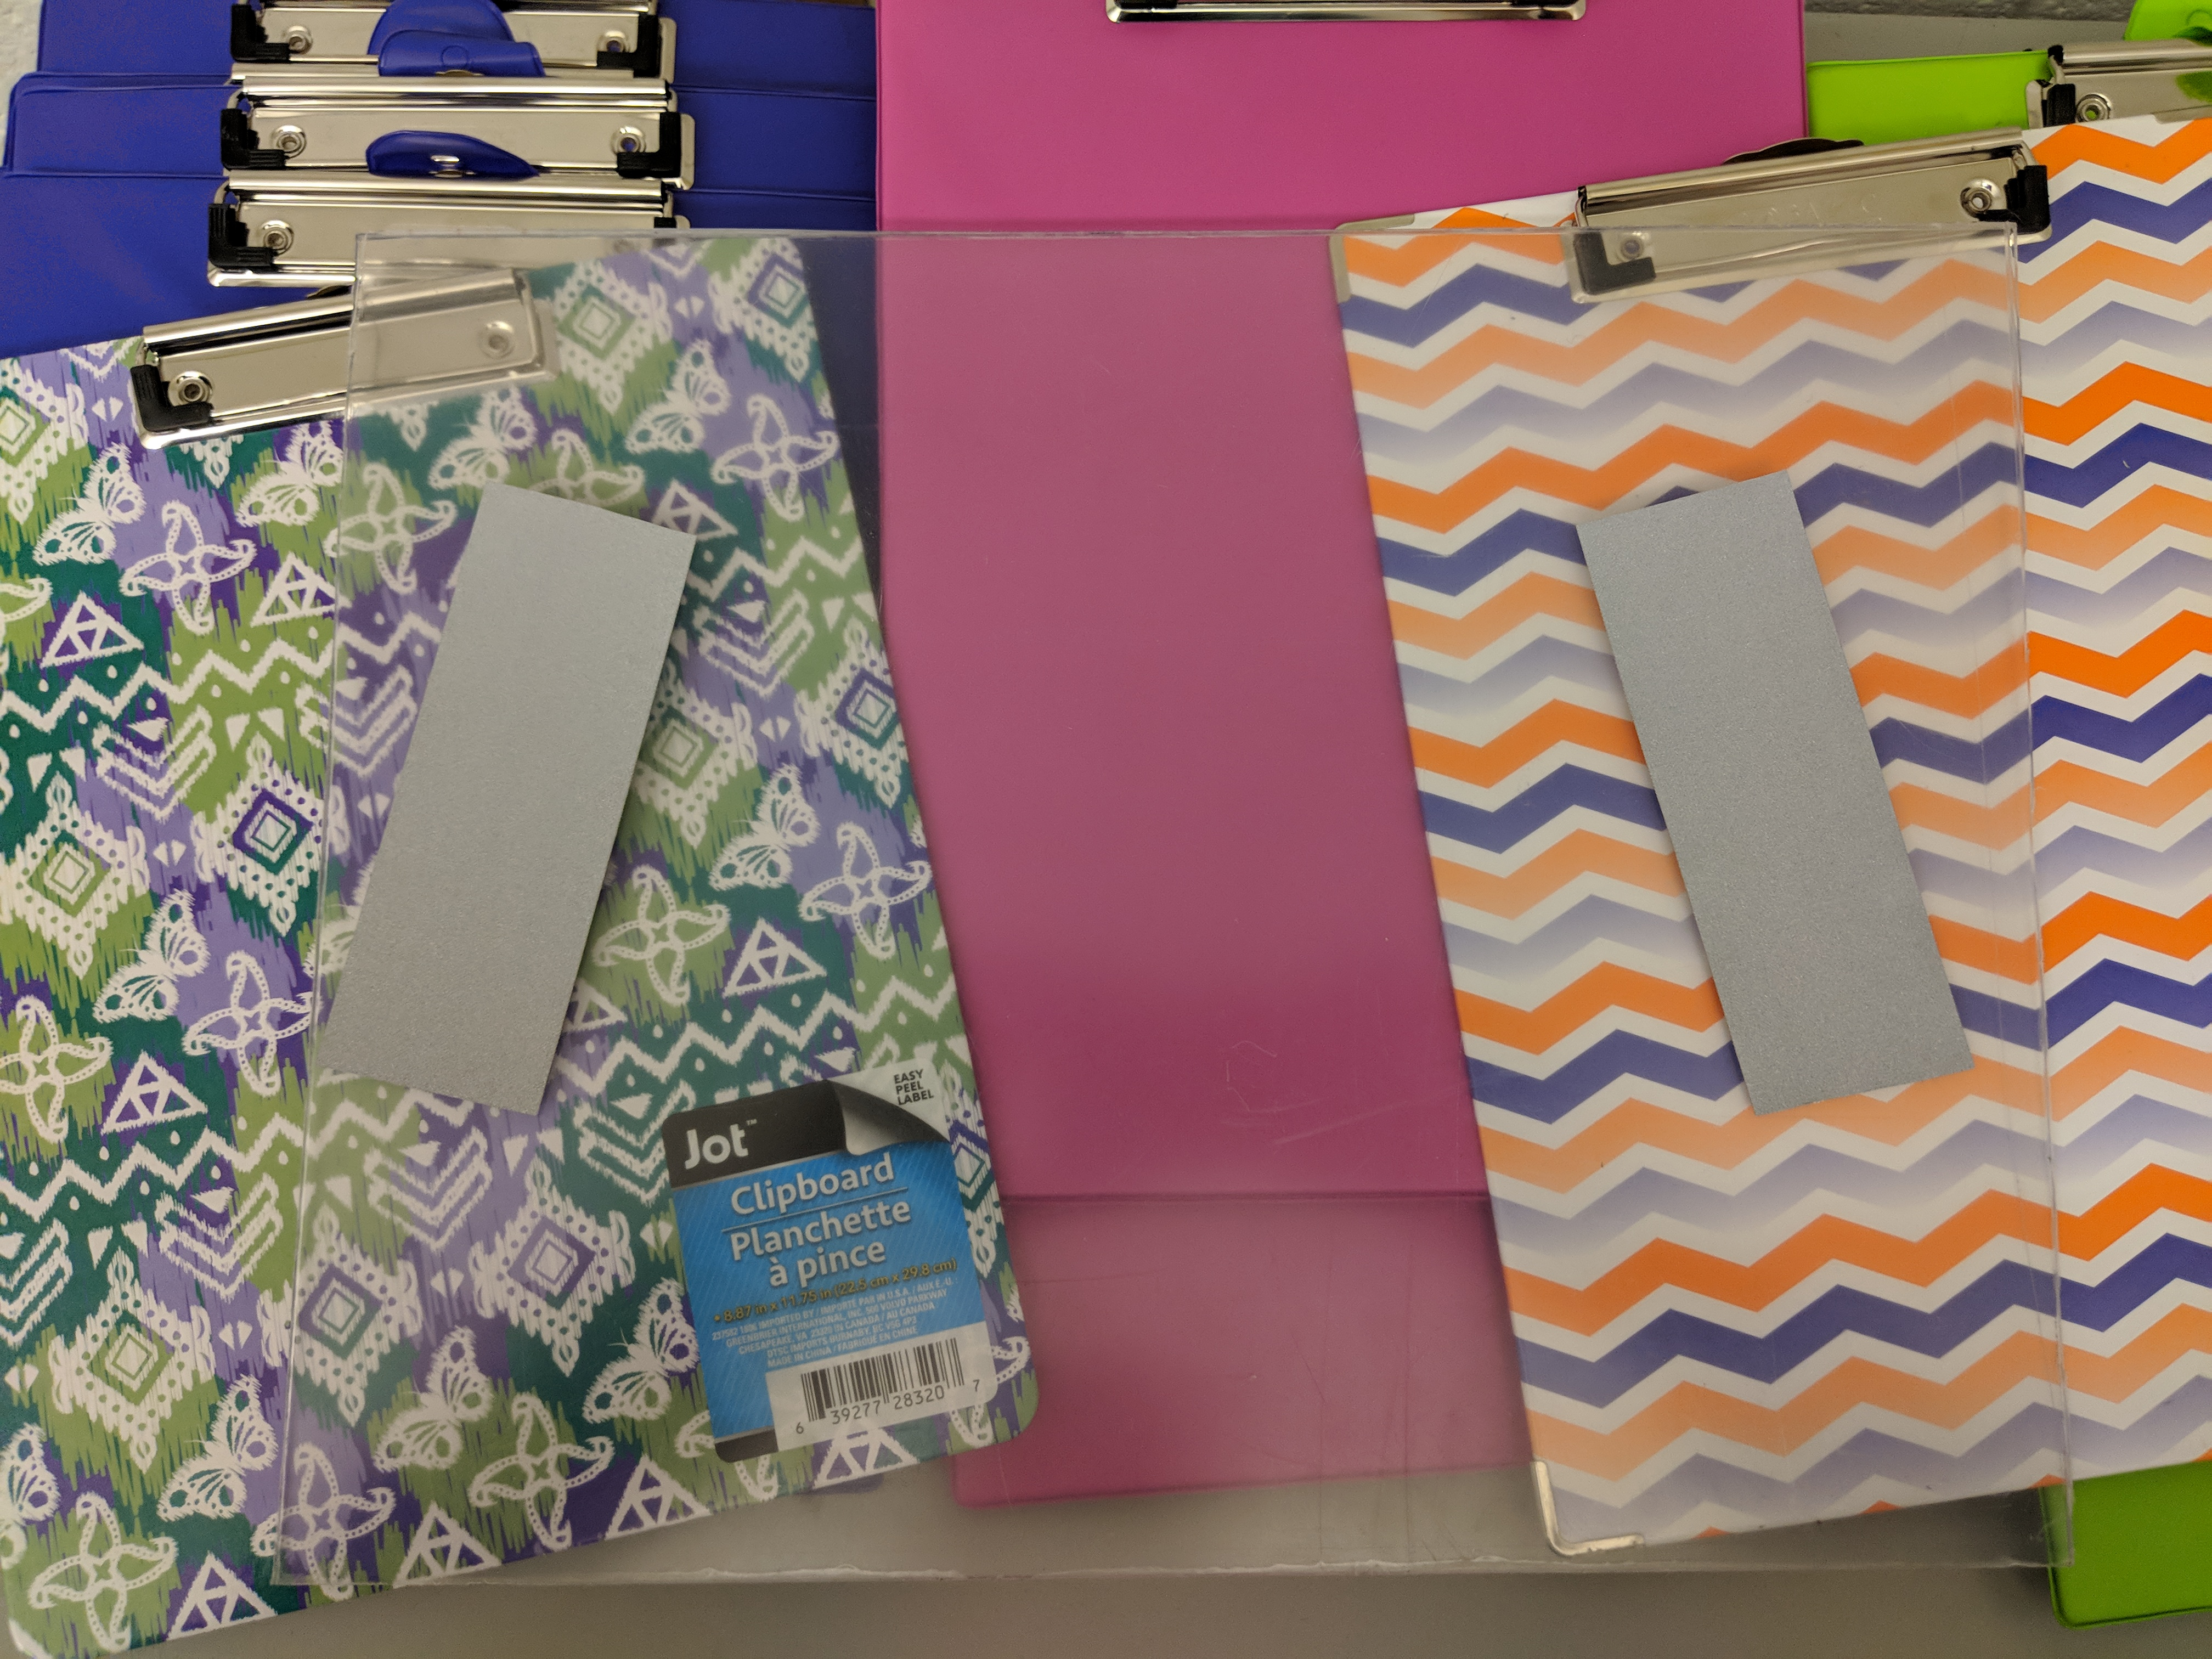vision_target: (300, 462, 2001, 1129)
